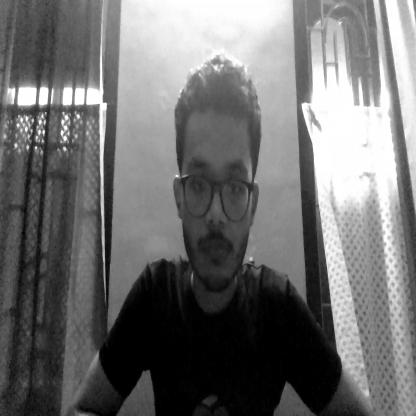Normal: (170, 79, 259, 278)
